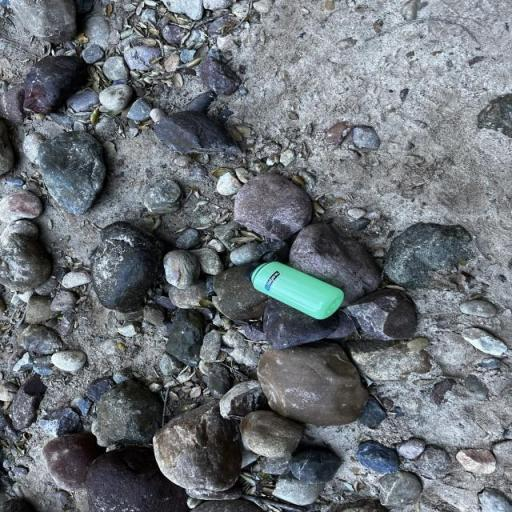bottle: (245, 250, 344, 320)
